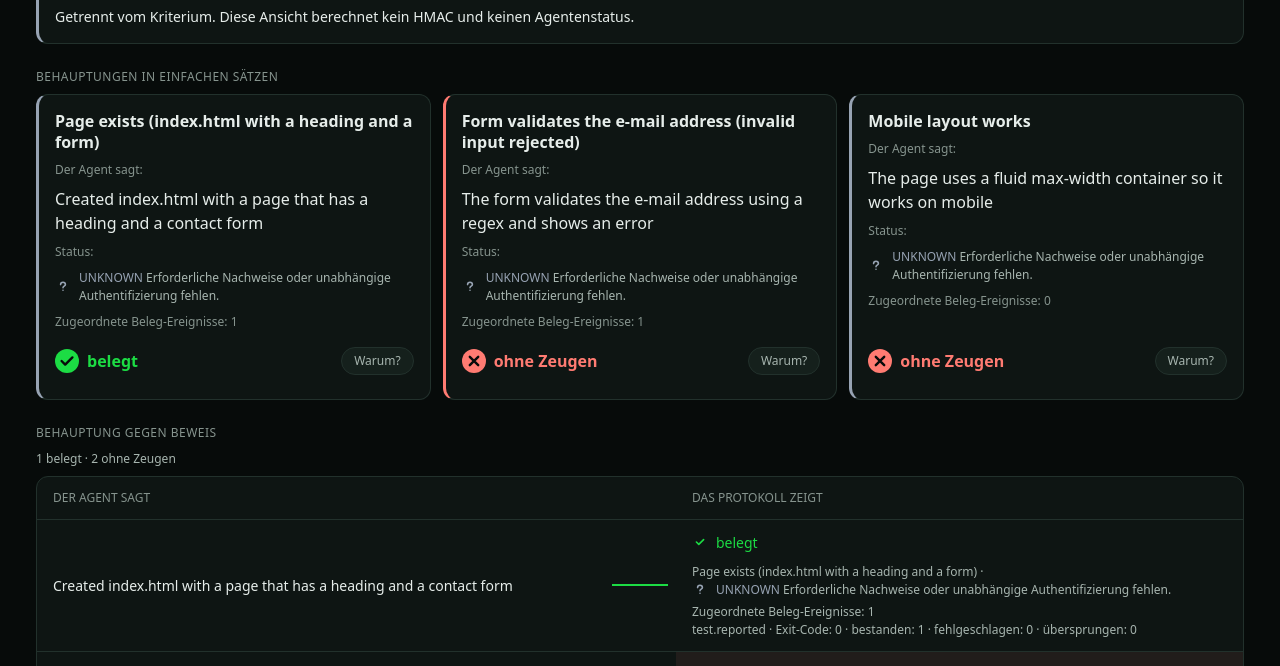
Test case: shows one card per criterion, exact claims, results and only linked recorded evidence
(page scrolled)
Expected: the heading "Page exists (index.html with a heading and a form)" is shown, [55,111,414,153]
Expected: the text "Created index.html with a page that has a heading and a contact form" below "Behauptungen in einfachen Sätzen" is shown, [55,188,368,234]
Click the 1st text "Warum?": (377, 361) [341,347,414,375]
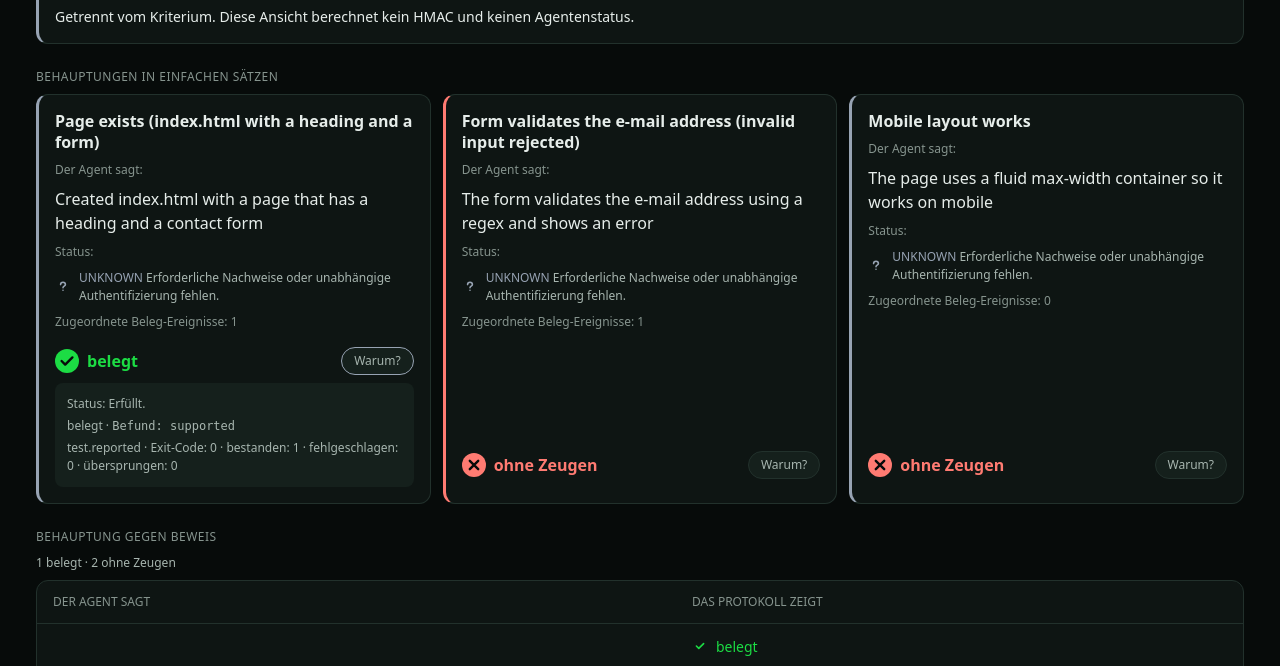
Result: the text "Status: Erfüllt." is shown at [67,395,145,412]
Result: the text "· Exit-Code: 0" is shown at [141,439,217,456]
Result: the text "Befund: supported" is shown at [112,419,235,433]
